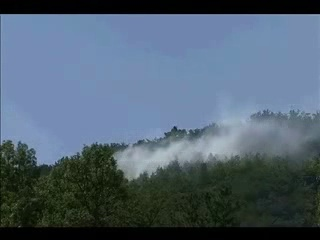smoke: (115, 111, 318, 181)
